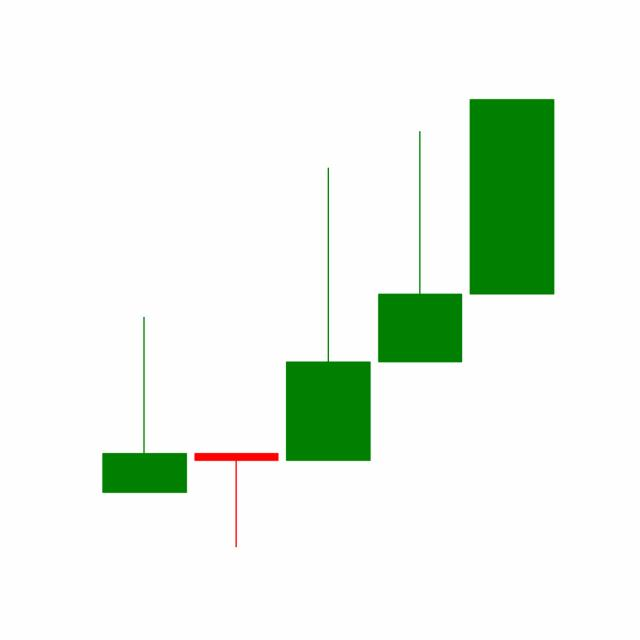Marubozu: (464, 97, 558, 296)
